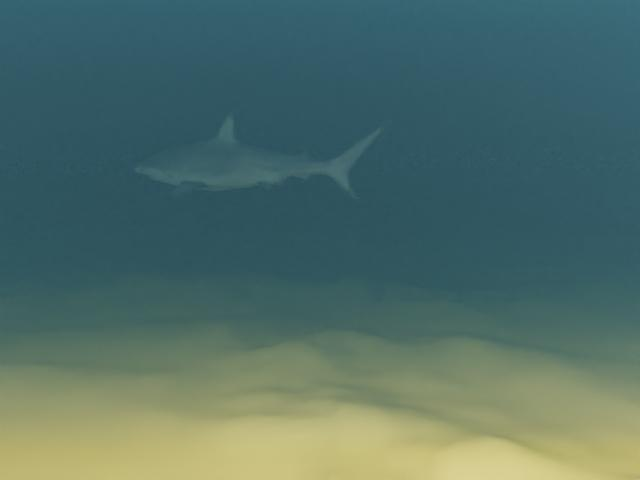Carribean Shark.001: (133, 110, 391, 202)
